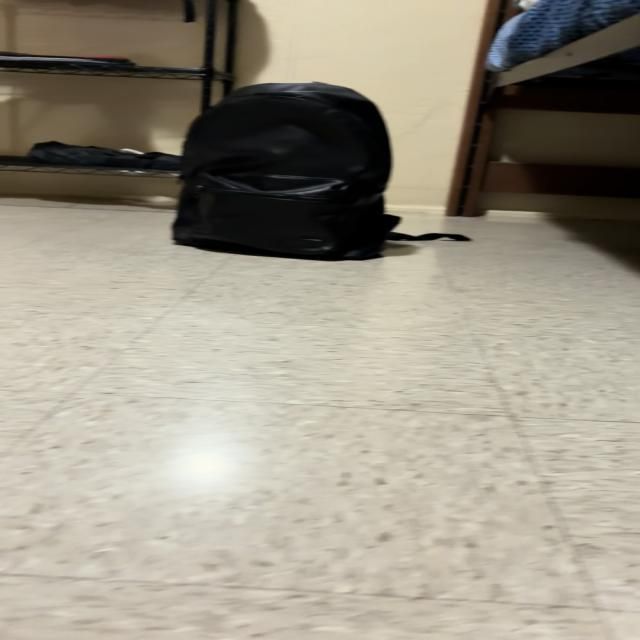backpack: (174, 83, 398, 259), (394, 234, 462, 239), (464, 238, 466, 239)
